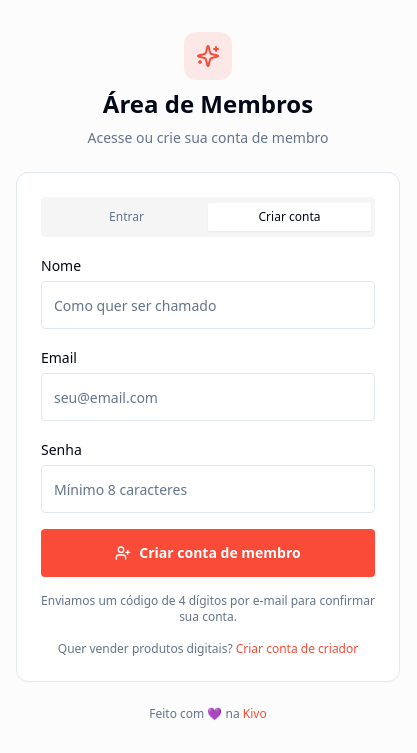
Test: MemberLogin — cadastro de membro com código de 4 dígitos › recusa senha com menos de 8 caracteres antes de chamar o backend
Type "novo@membro.com" into the field with placeholder "seu@email.com" at point(208, 397), box 41,373 -> 375,421
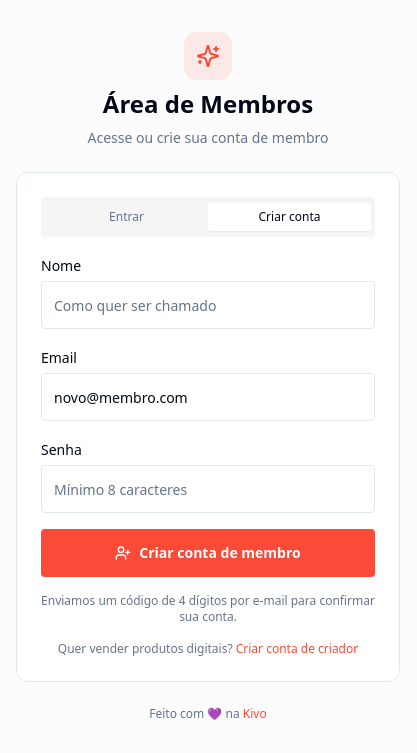
Type "123" into the password field with placeholder "Mínimo 8 caracteres" at point(208, 489), box 41,465 -> 375,513
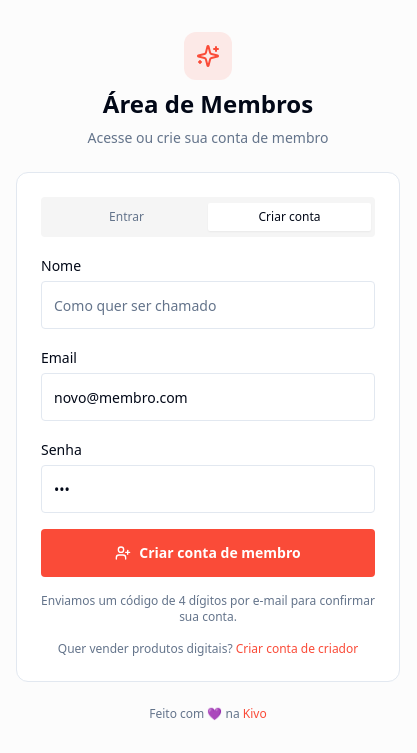
Click the button "Criar conta de membro" at point(208, 553), box 41,529 -> 375,577
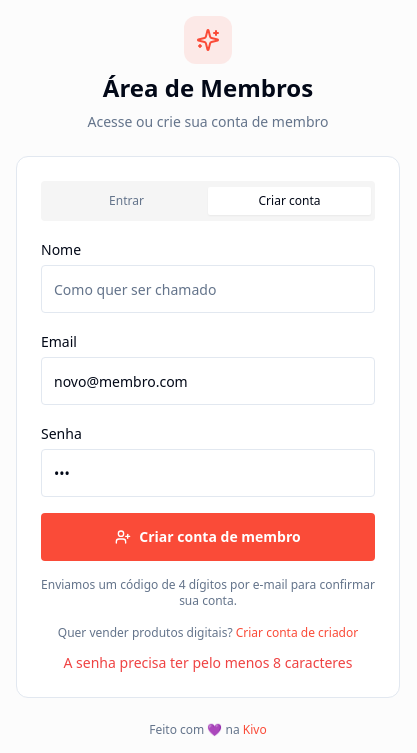
Expected: the message "A senha precisa ter pelo menos 8 caracteres" is shown, 41,653 -> 375,673
